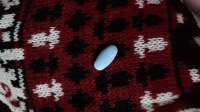Apranax: (93, 44, 120, 71)
